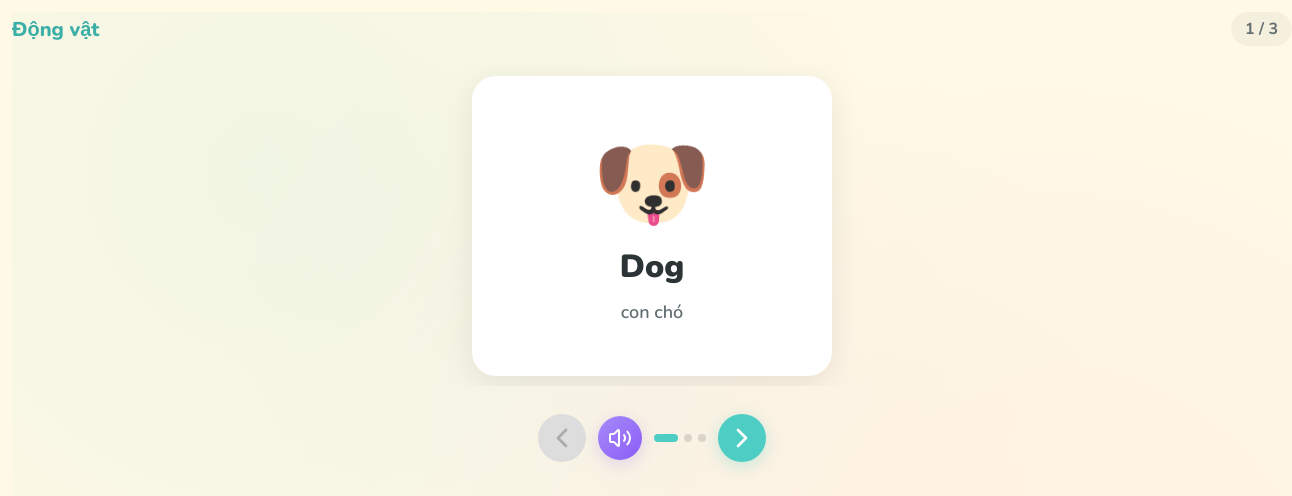
Test: FlashcardMode component › should disable next button on last card
Click the button named "Next". click: coordinates (742, 438)
box: x1=718 y1=414 x2=766 y2=462
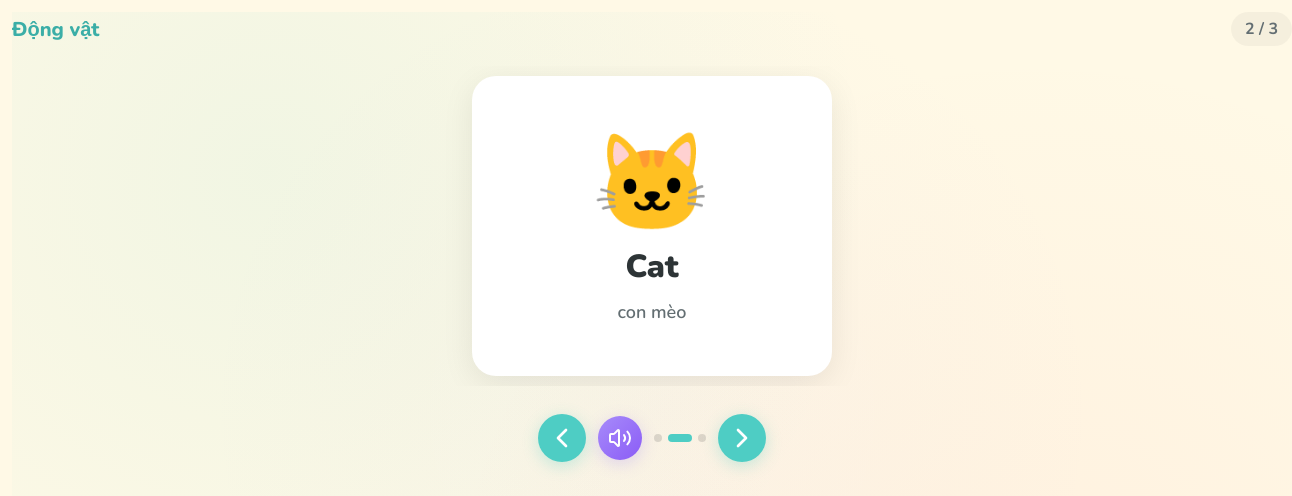
Click the button named "Next". click: coordinates (742, 438)
box: x1=718 y1=414 x2=766 y2=462
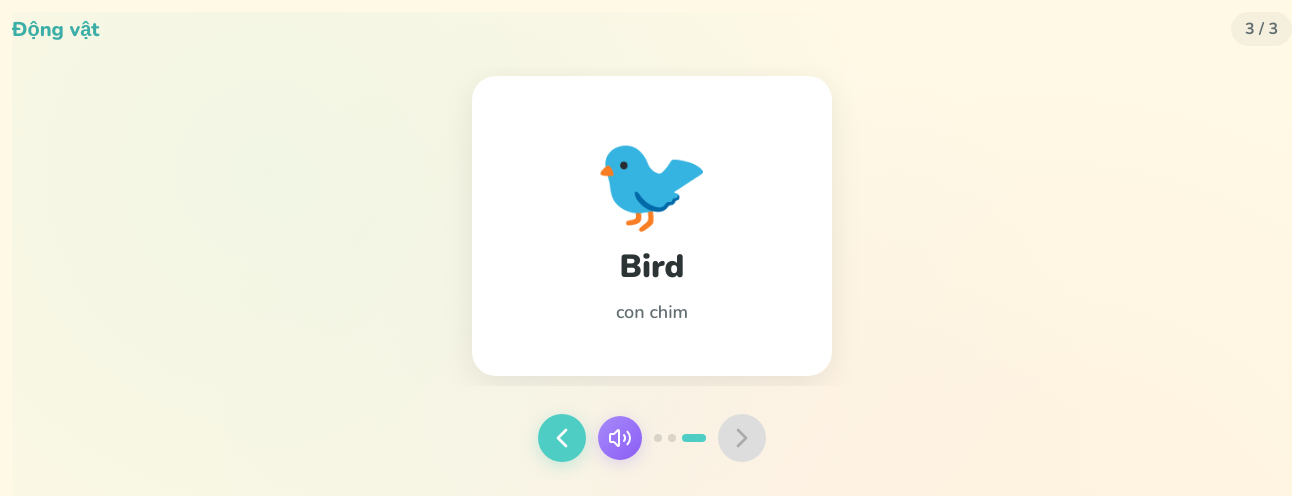
Now the button named "Next" is disabled, box x1=718 y1=414 x2=766 y2=462
